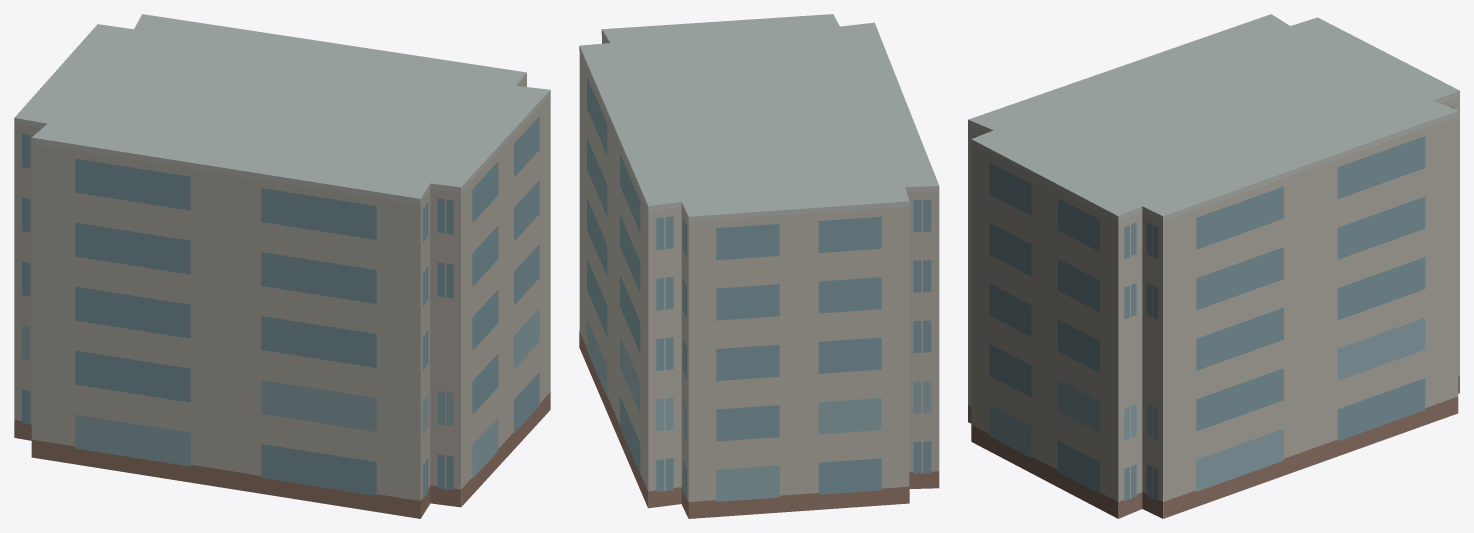
File: survey-upis-32686257.glb
The picture shows the model from 3 angles, left to right: view 1: azimuth 30°, elevation 25°; view 2: azimuth 150°, elevation 25°; view 3: azimuth 270°, elevation 25°; orthographic projection. The views are drawn at different scales.
Parts seen in each view (by area): view 1: survey-upis-32686257.tmp; view 2: survey-upis-32686257.tmp; view 3: survey-upis-32686257.tmp.
Part boxes in pixels (box(x1,y1,x2,y2)): survey-upis-32686257.tmp: box(14, 14, 550, 518); survey-upis-32686257.tmp: box(579, 14, 939, 518); survey-upis-32686257.tmp: box(968, 14, 1459, 518).
Size of the model in its own units: 19.94 by 13.9 by 20.48.
